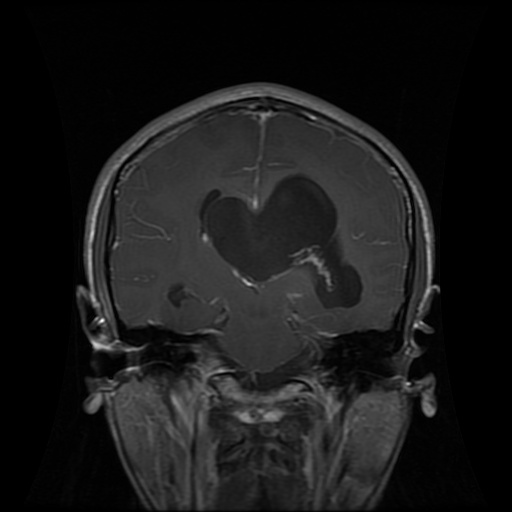glioma: (195, 169, 365, 311)
